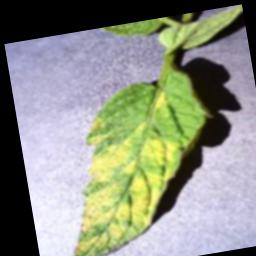Leaf_Mold: (41, 64, 231, 256)
